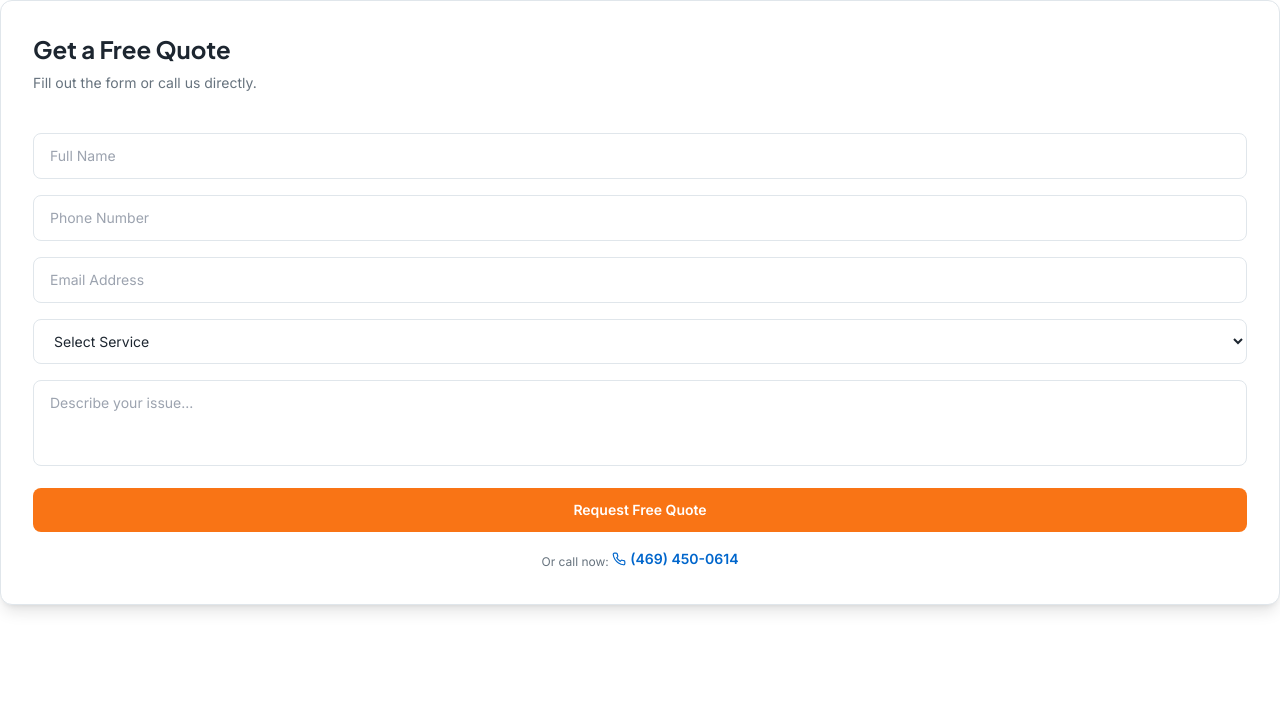
Scenario: QuoteForm › shows error message on API failure
Type "John Doe" into the field labelled "Full Name" at x=640, y=156, box [33,133,1247,179]
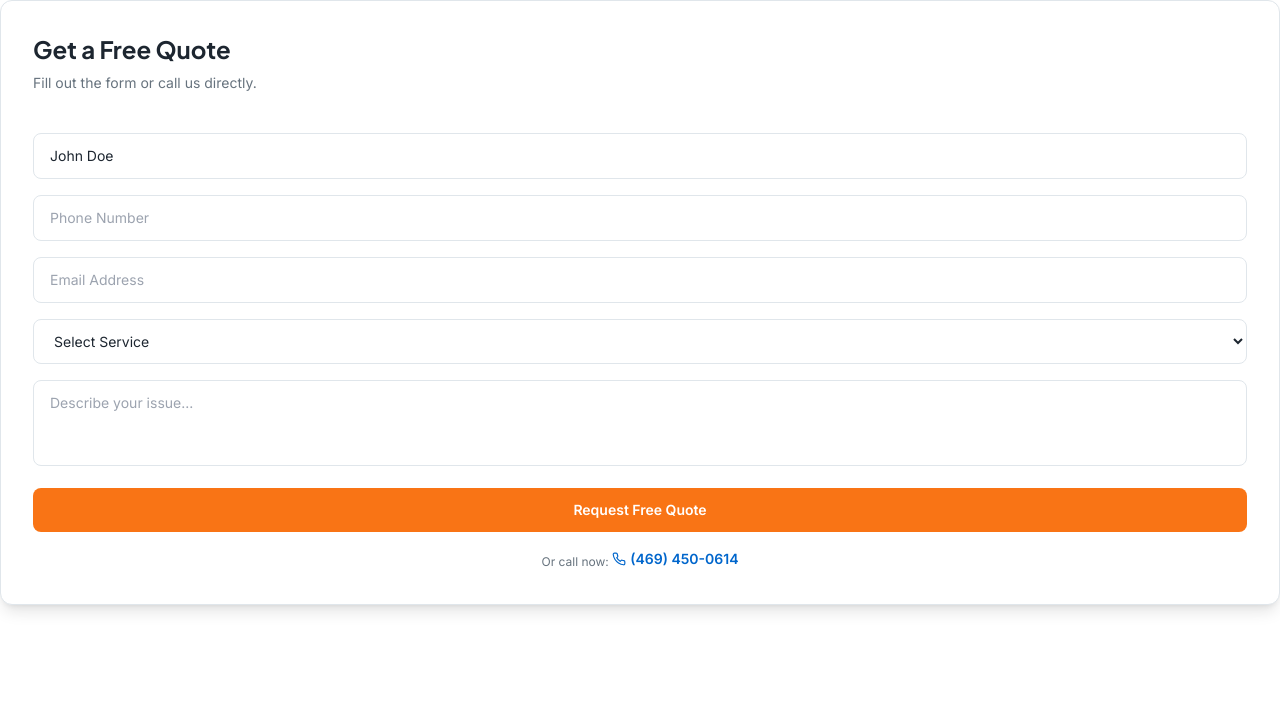
Type "4691234567" into the field labelled "Phone Number" at x=640, y=218, box [33,195,1247,241]
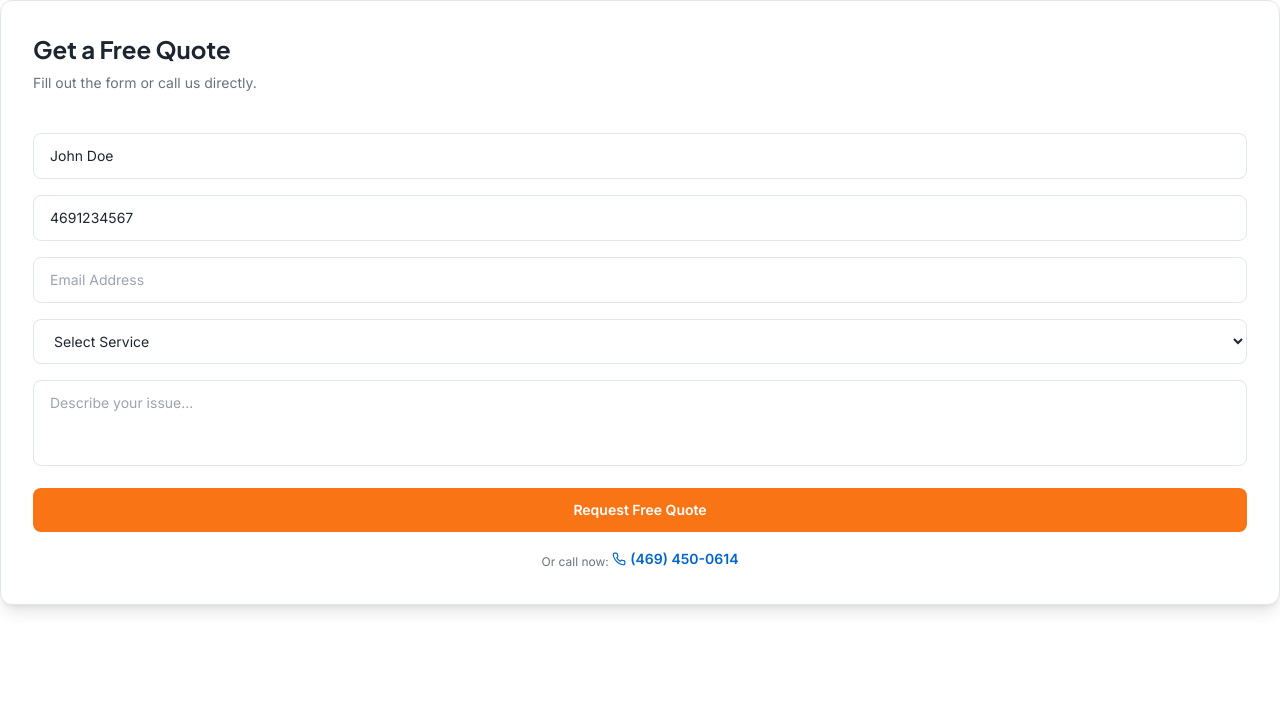
Type "john@test.com" into the field labelled "Email Address" at x=640, y=280, box [33,257,1247,303]
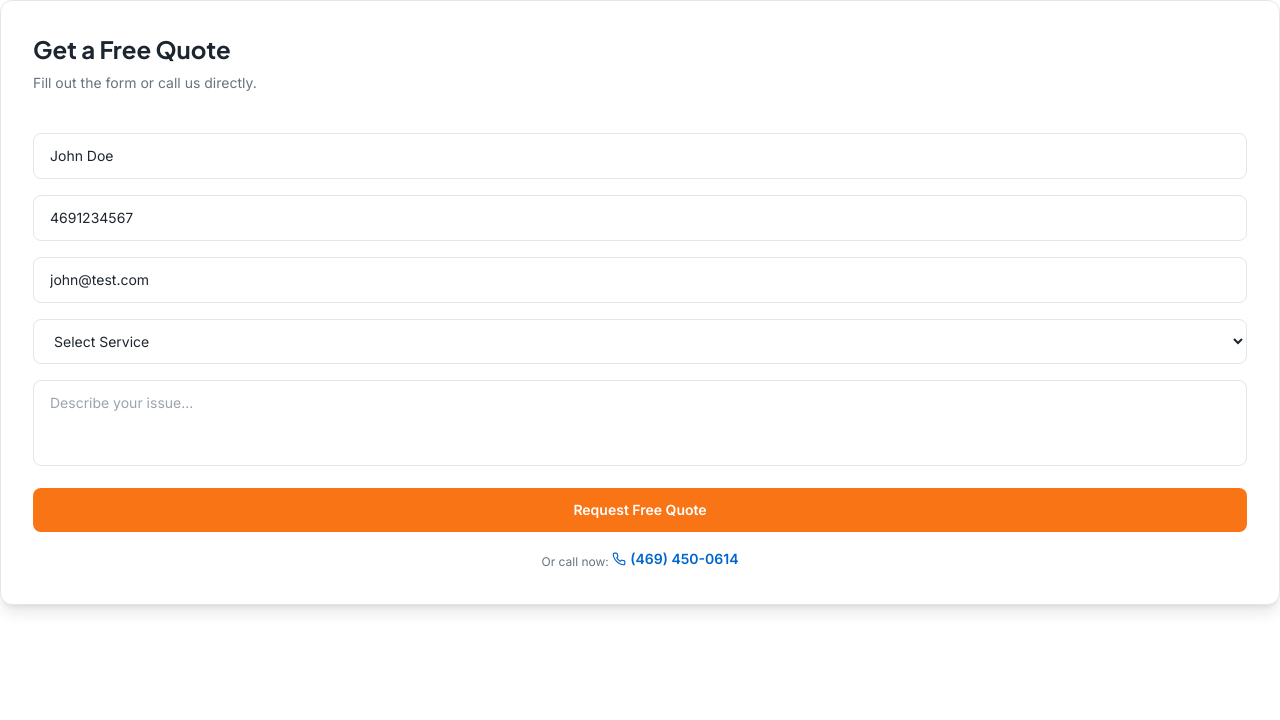
Select "AC Repair" in the dropdown named "Select Service" at x=640, y=342, box [33,319,1247,364]
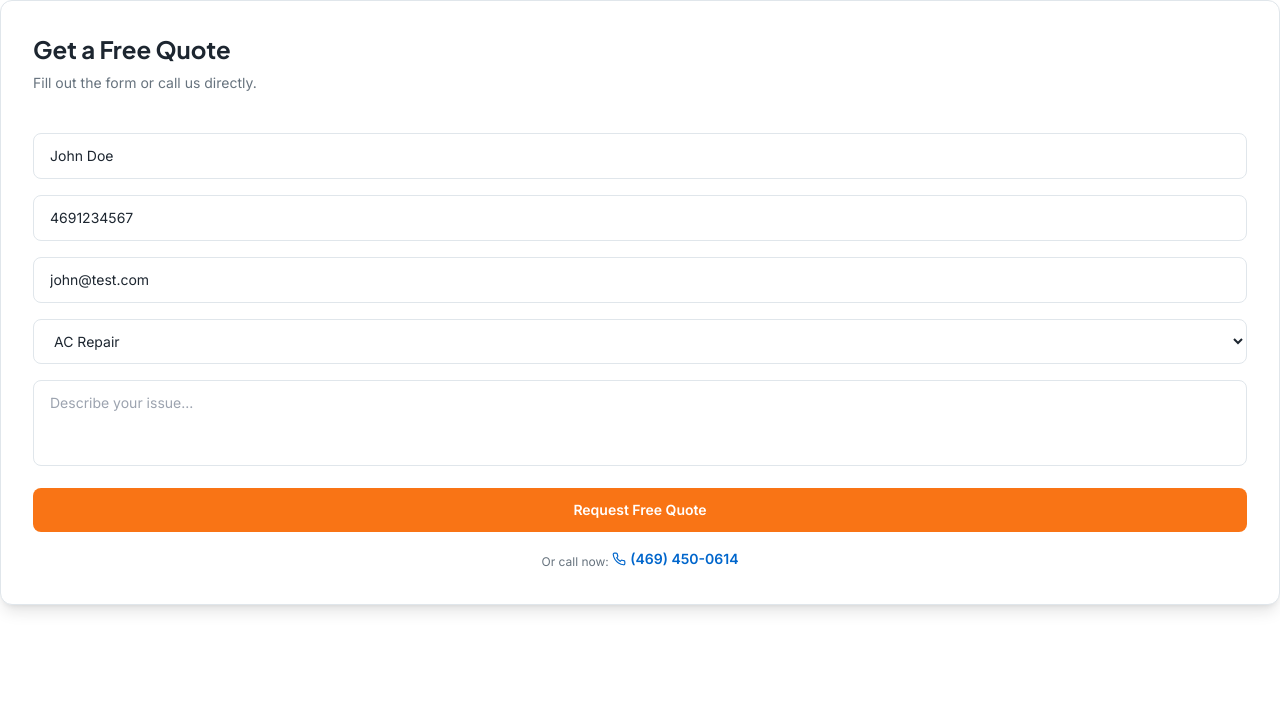
Click the button "Request Free Quote" at x=640, y=510, box [33,488,1247,532]
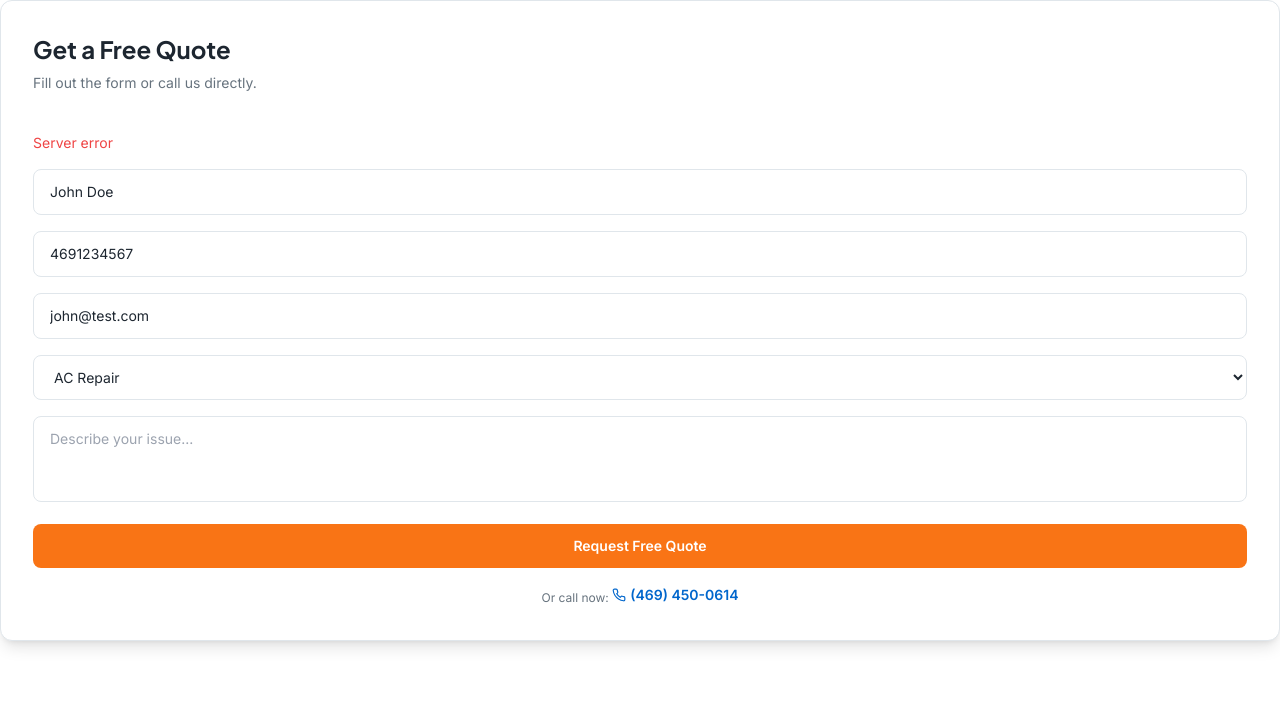
Now the text "Server error" is shown, box [33,134,113,151]
